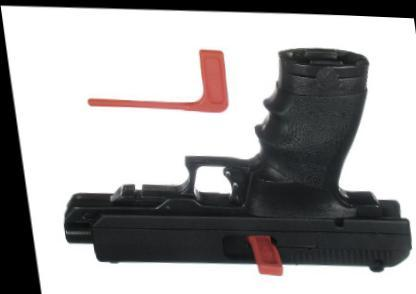pistol: (35, 32, 411, 272)
